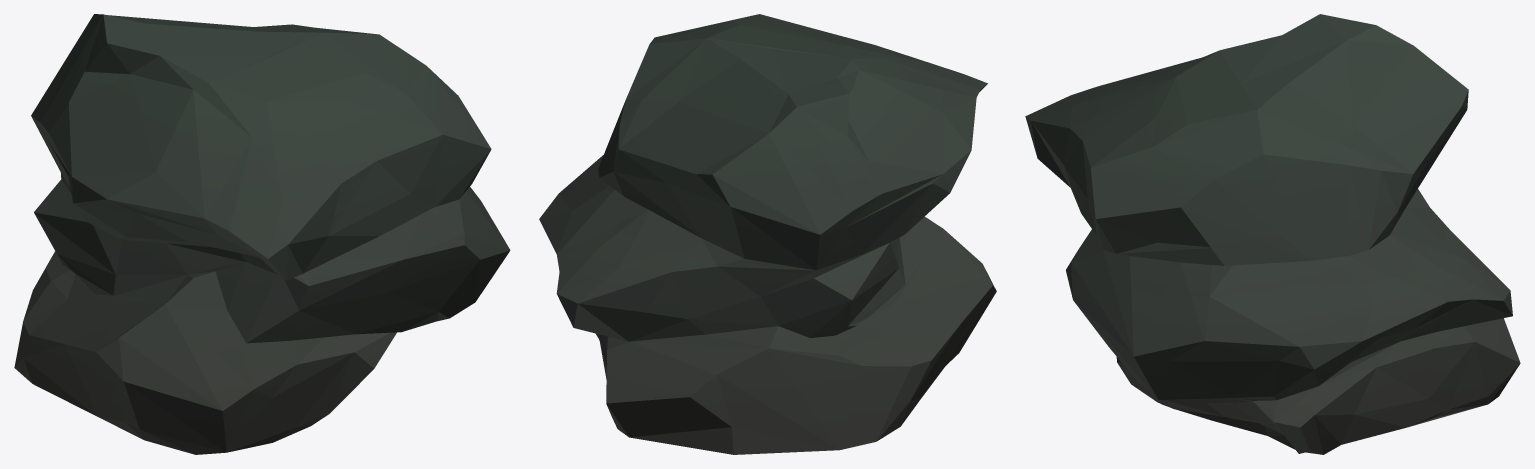
The model's file is SM_Rock_04.fbx.
3 views of the same model, side by side, from view 1: azimuth 30°, elevation 25°; view 2: azimuth 150°, elevation 25°; view 3: azimuth 270°, elevation 25° (orthographic). The views are drawn at different scales.
Visible parts, largest first — view 1: SM_Rock_04; view 2: SM_Rock_04; view 3: SM_Rock_04.
Part boxes in pixels (bbox=[...]): SM_Rock_04: bbox=[14, 14, 510, 454]; SM_Rock_04: bbox=[539, 14, 996, 454]; SM_Rock_04: bbox=[1025, 14, 1520, 454].
Size of the model in its own units: 808 by 668 by 898.
Materials: 1 (1 with a texture image).
